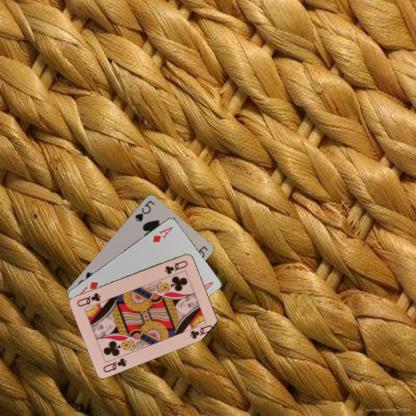5s: (132, 198, 156, 223)
Ad: (150, 224, 174, 243)
Qc: (101, 355, 128, 374), (162, 258, 189, 276)
